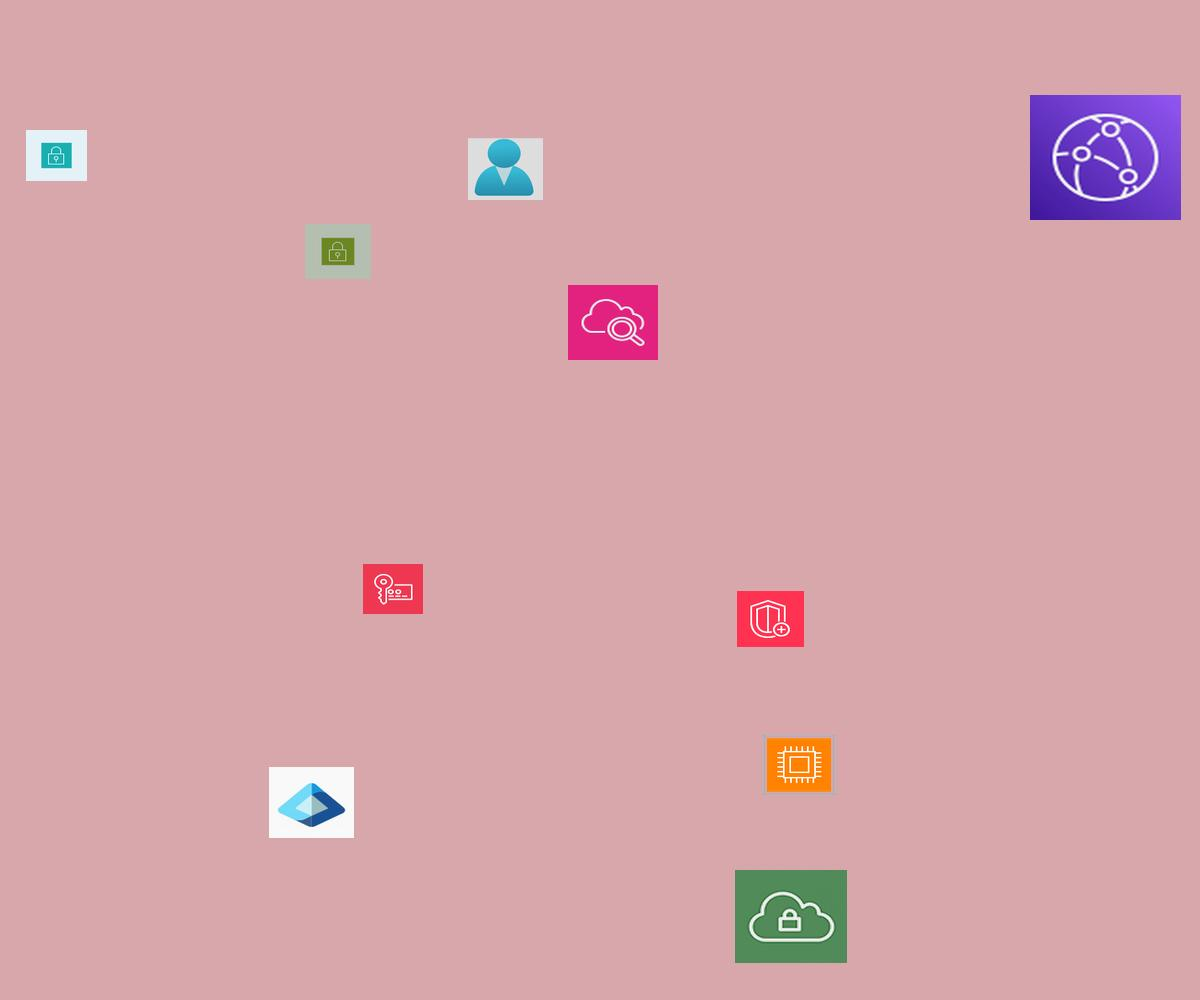AWS-Category_Compute: (763, 735, 835, 795)
AWS-CloudFront: (1030, 95, 1181, 220)
AWS-CloudWatch: (568, 285, 658, 360)
AWS-Key-Management-Service: (363, 564, 423, 614)
AWS-Private-subnet: (26, 130, 87, 181)
AWS-Private_vpc: (735, 870, 847, 963)
AWS-Public-subnet: (305, 224, 371, 279)
AWS-Shield: (737, 591, 804, 647)
Azure_microsoft_entra: (269, 767, 354, 838)
Azure_users: (468, 138, 543, 200)
